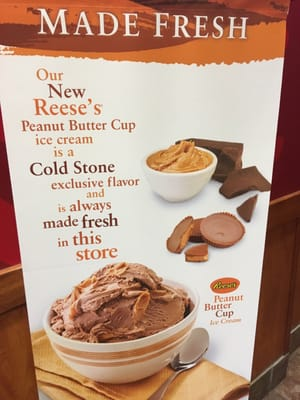salad: (147, 327, 209, 400), (147, 349, 209, 400)
sushi: (43, 261, 205, 385), (143, 141, 218, 203)
